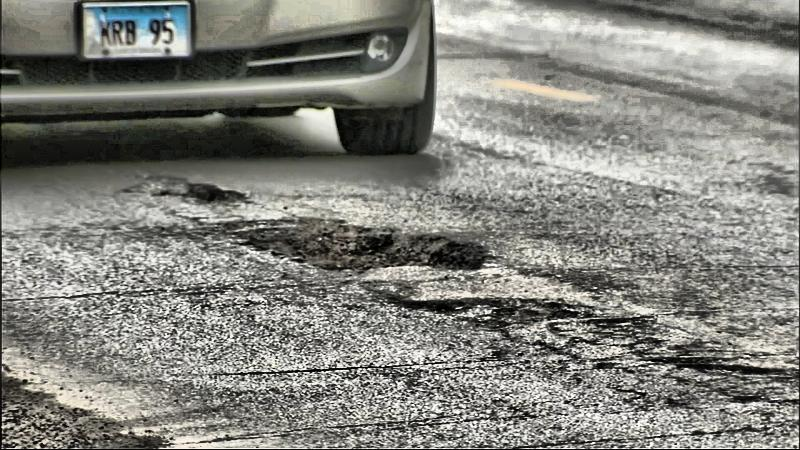pothole: (229, 224, 501, 285)
